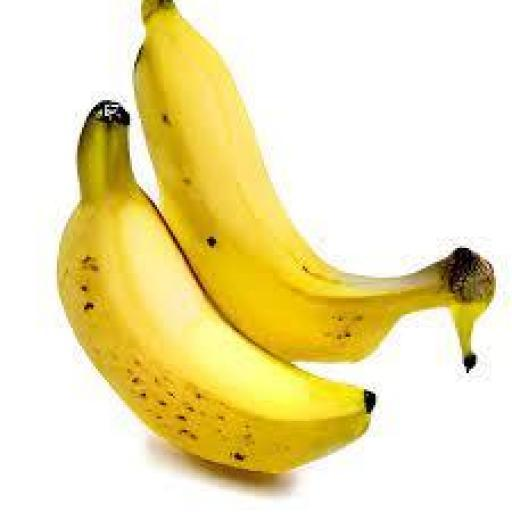banana: (135, 0, 493, 368), (60, 103, 375, 473)
